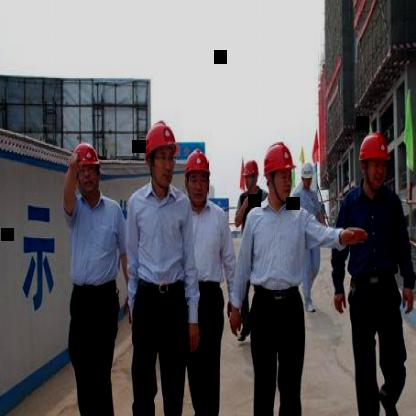helmet: (142, 121, 178, 188), (264, 141, 298, 207), (357, 134, 393, 193), (184, 145, 212, 212), (68, 140, 100, 198), (241, 160, 259, 190), (301, 160, 315, 190)
